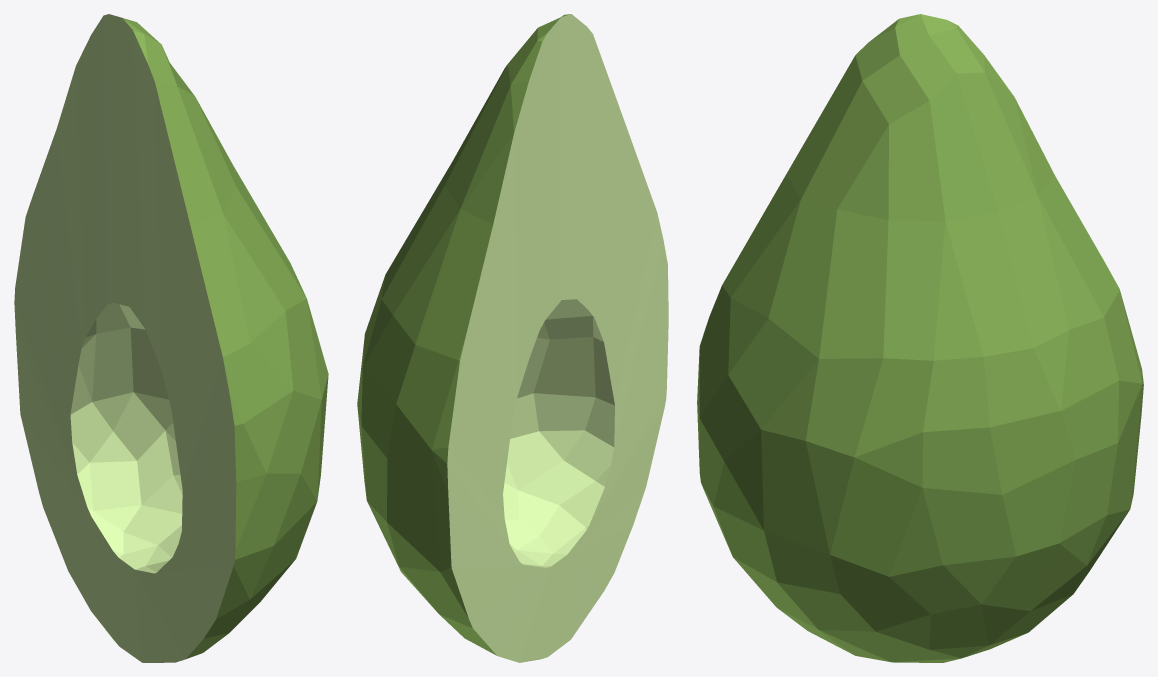
File: right.fbx
3 renders of one model, left to right at view 1: azimuth 30°, elevation 25°; view 2: azimuth 150°, elevation 25°; view 3: azimuth 270°, elevation 25°, orthographic.
Visible parts, largest first — view 1: flesh_right, skin_right; view 2: flesh_right, skin_right; view 3: skin_right.
Part boxes in pixels (x1,y1,x2,y2): flesh_right: (14,14,236,662); skin_right: (98,18,328,658); flesh_right: (447,14,668,662); skin_right: (357,14,570,661); skin_right: (697,14,1143,662).
Bounding box in the file's own units: 0.2225 × 0.7677 × 0.4852.
